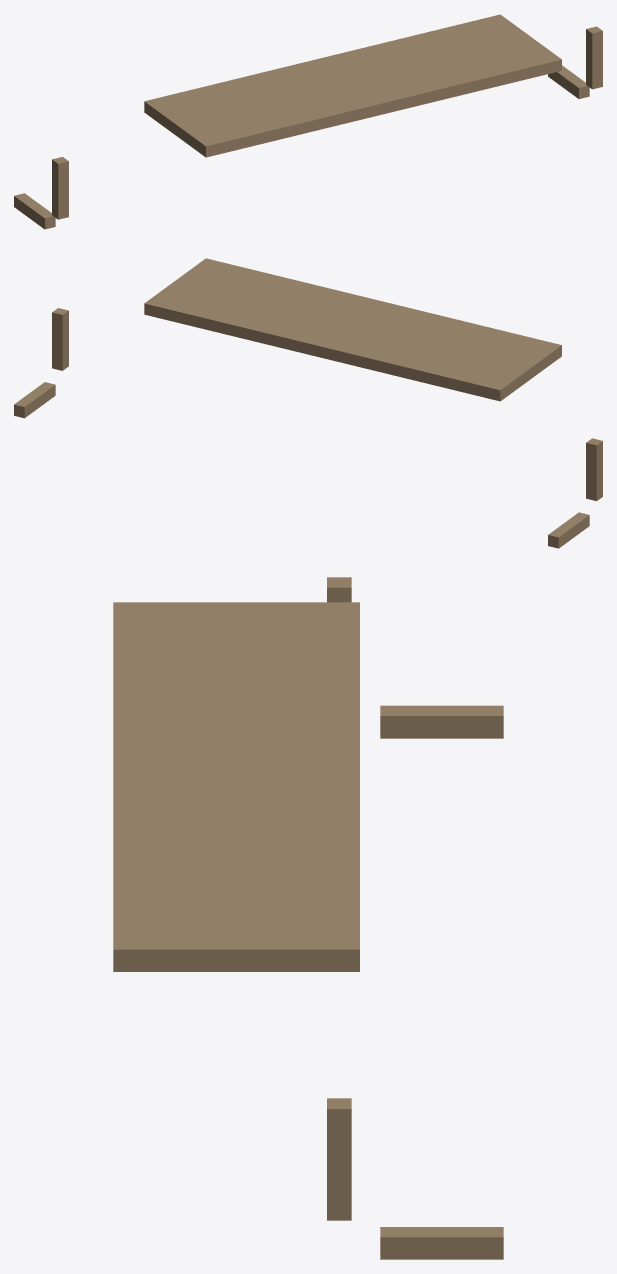
Rendered from kitchen_shelf.glb.
3 renders of one model, top to bottom at view 1: azimuth 30°, elevation 25°; view 2: azimuth 150°, elevation 25°; view 3: azimuth 270°, elevation 25°, orthographic. The views are drawn at different scales.
Visible parts, largest first — view 1: kitchen_shelf; view 2: kitchen_shelf; view 3: kitchen_shelf.
Boxes of the visible parts, x1,y1,x2,y2 form: kitchen_shelf: [14, 14, 602, 229]; kitchen_shelf: [14, 258, 602, 548]; kitchen_shelf: [113, 577, 503, 1259].
Size of the model in its own units: 0.612 by 0.117 by 0.19.
